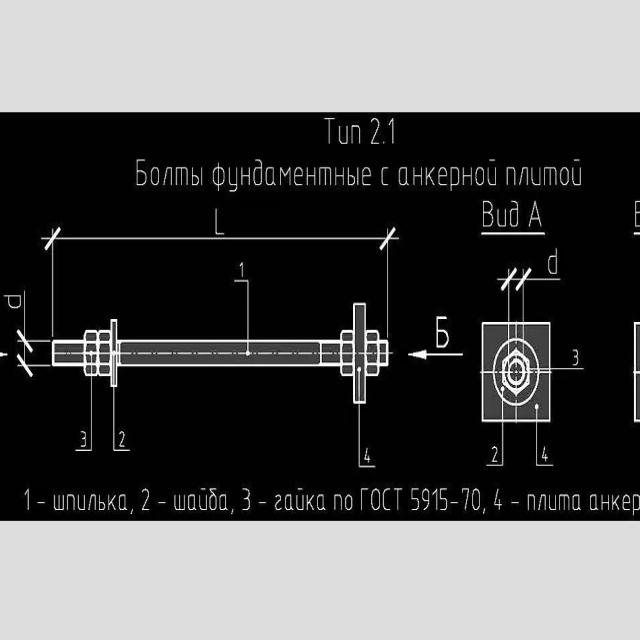marking_line: (40, 227, 401, 300), (497, 270, 564, 323), (19, 288, 52, 345), (75, 379, 94, 454), (110, 389, 131, 454), (357, 405, 377, 470), (233, 277, 251, 339), (533, 424, 556, 471), (409, 347, 464, 365), (488, 427, 506, 469), (15, 358, 50, 378), (551, 364, 586, 372)
numeric: (370, 118, 381, 145), (471, 487, 482, 511), (421, 486, 431, 512), (141, 487, 151, 512), (410, 487, 420, 512), (242, 487, 251, 511), (439, 487, 448, 511), (388, 116, 395, 144), (462, 487, 470, 511), (490, 445, 499, 465), (24, 489, 32, 511), (495, 489, 503, 511), (78, 430, 87, 449), (363, 445, 371, 464), (432, 489, 439, 510), (572, 349, 580, 366), (118, 430, 125, 447), (541, 446, 548, 463), (239, 261, 244, 278)
